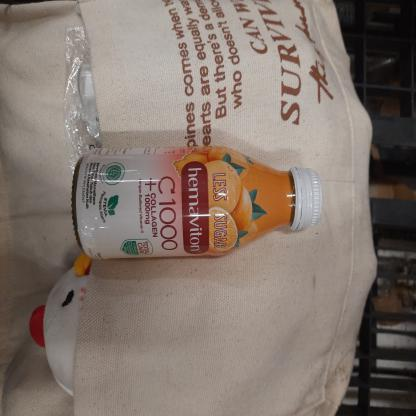keyboard: (69, 140, 324, 266)
